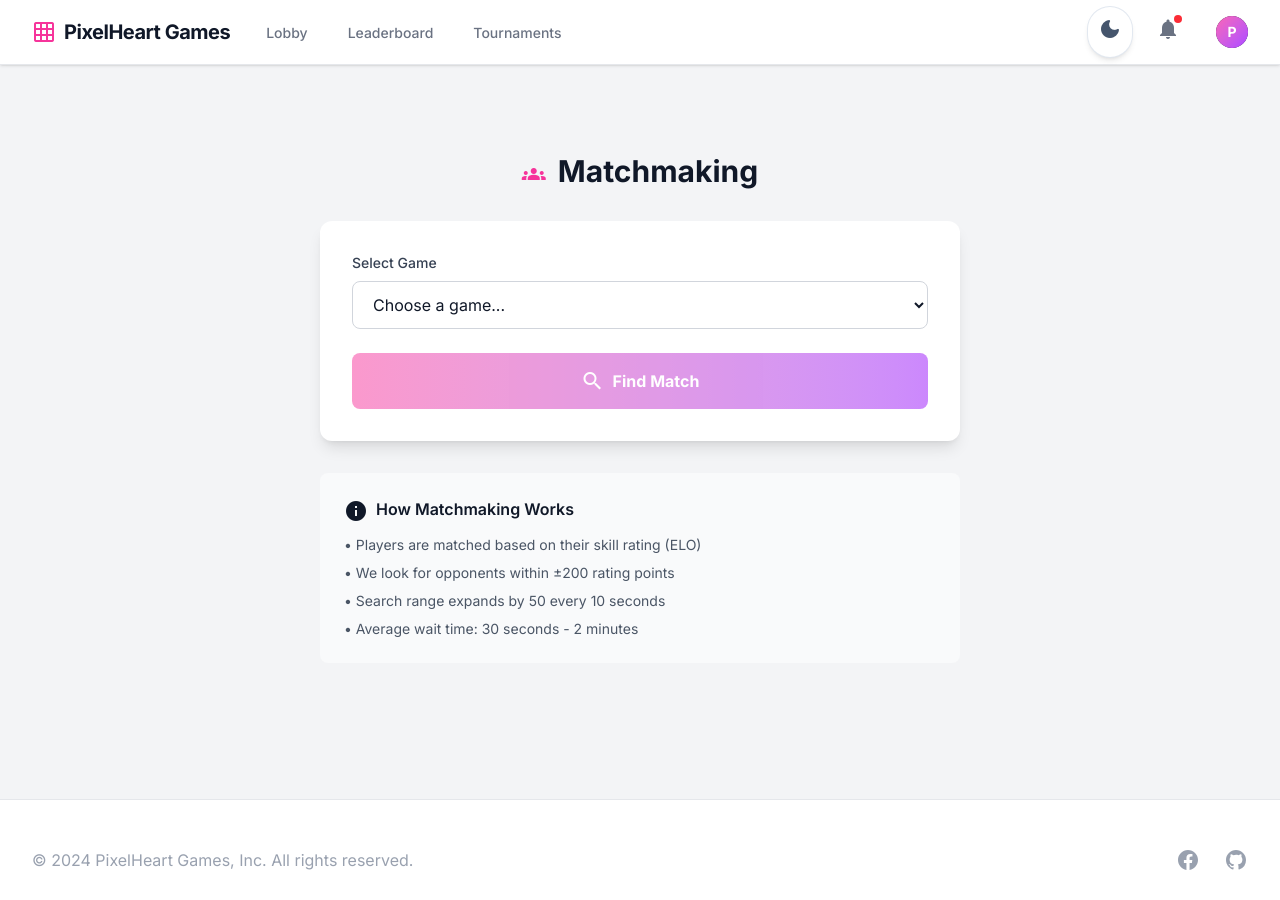
MatchmakingPage › returns to idle state when Cancel is clicked
Select "Cờ Caro" in the dropdown at (640, 305), box [352,281,928,329]
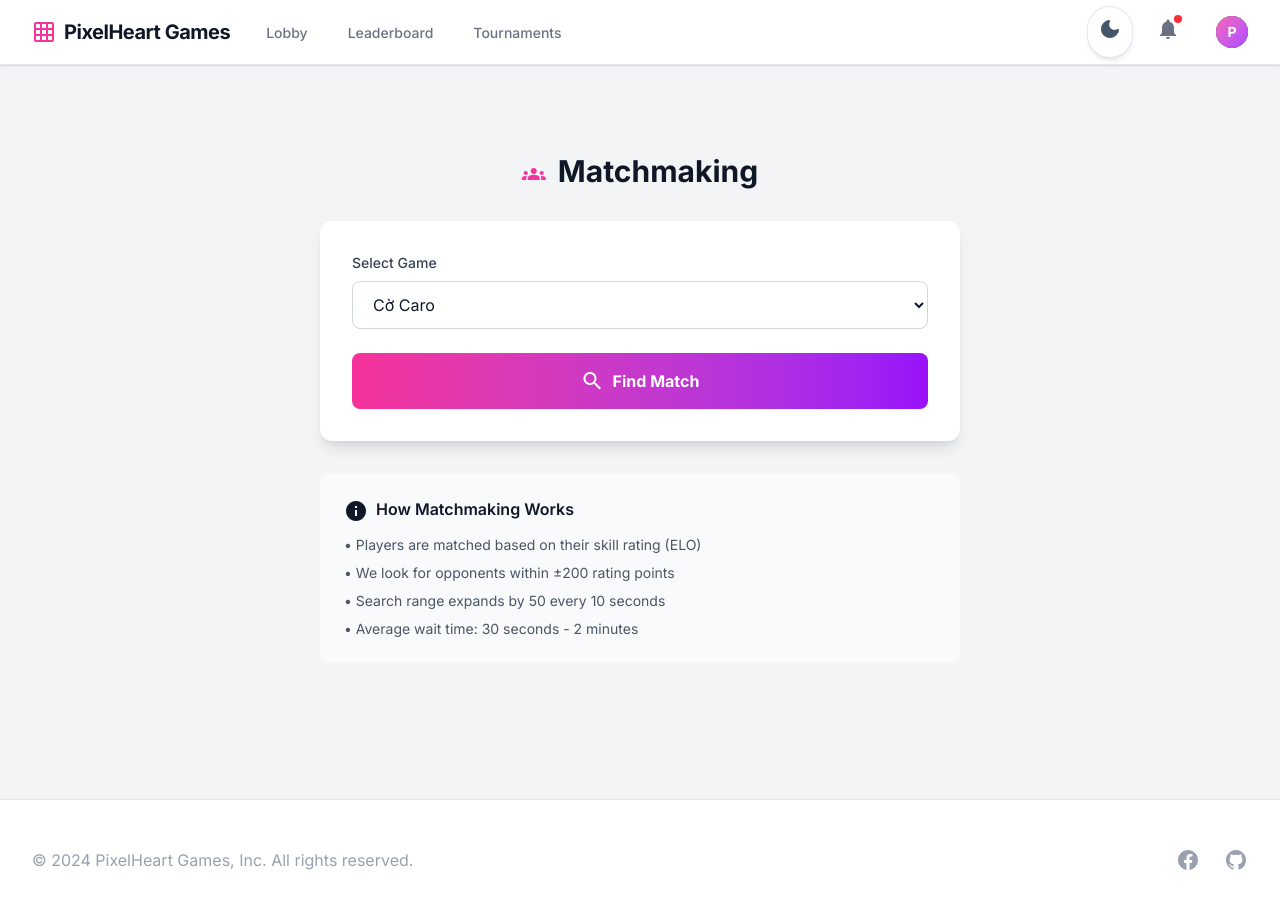
Click the button "Find Match".
click(640, 381)  # box [352,353,928,409]
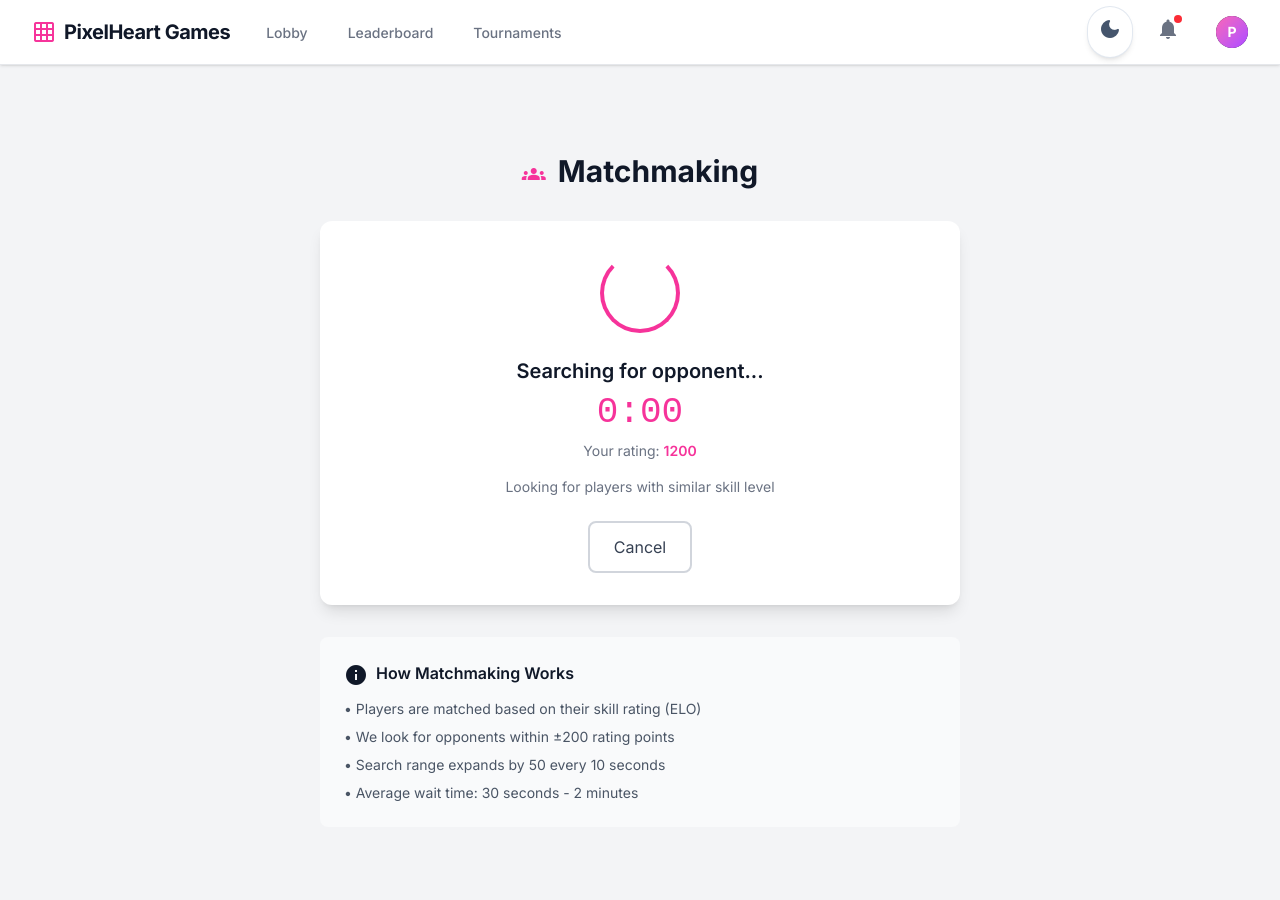
Expected: the button "Cancel" is shown
Click the button "Cancel".
click(640, 547)  # box [588,521,692,573]
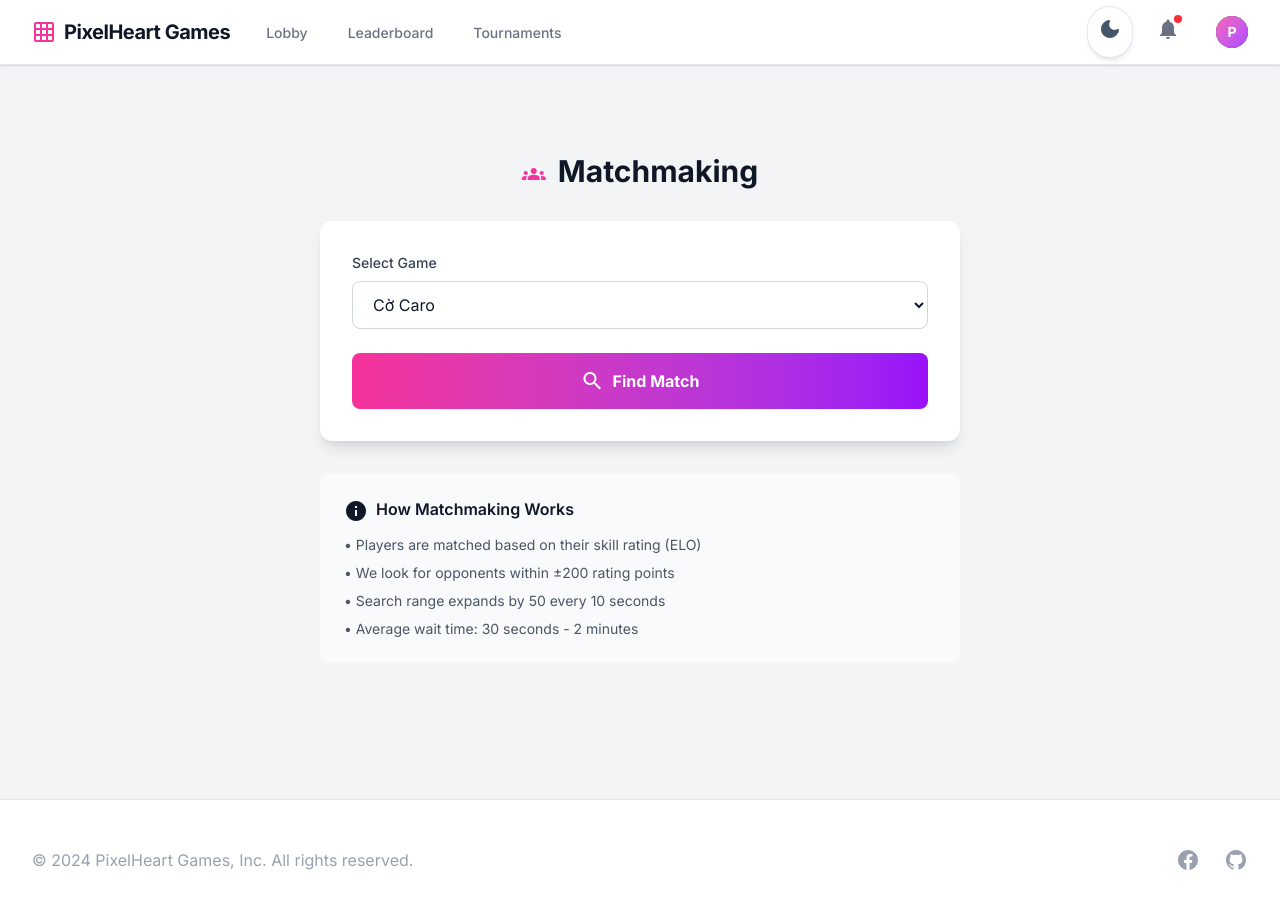
Expected: the button "Find Match" is shown, [352,353,928,409]
